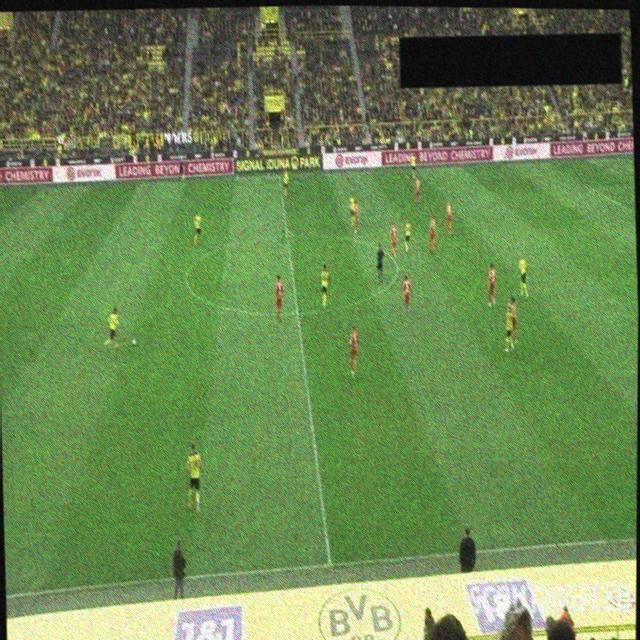bigarea_top_inner: (587, 182, 598, 193)
halfcircle_bottom: (291, 307, 302, 318)
halfcircle_top: (280, 228, 292, 240)
midline_bottom_intersection: (322, 554, 338, 573)
midline_top_intersection: (273, 171, 285, 182)
